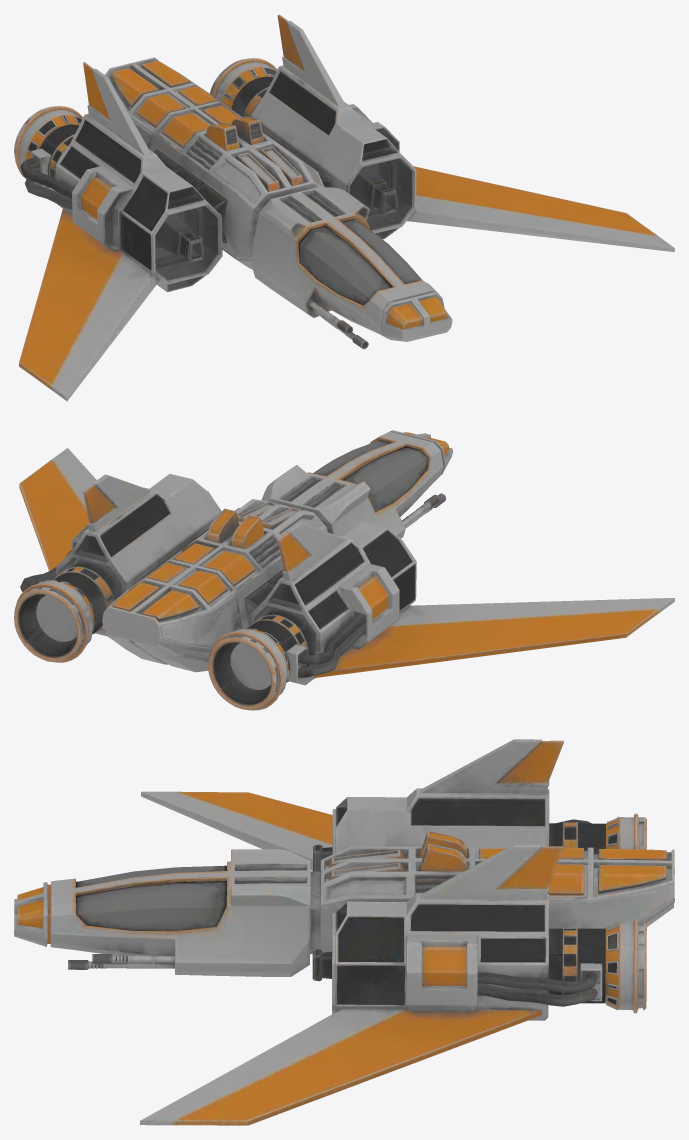
The model's file is spaceship-opt.glb.
3 views of the same model, one above another, from view 1: azimuth 30°, elevation 25°; view 2: azimuth 150°, elevation 25°; view 3: azimuth 270°, elevation 25° (orthographic). The views are drawn at different scales.
Parts seen in each view (by area): view 1: Starship_Material.003_0; view 2: Starship_Material.003_0; view 3: Starship_Material.003_0.
Part boxes in pixels (x1,y1,x2,y2): Starship_Material.003_0: (14,14,674,401); Starship_Material.003_0: (14,430,674,710); Starship_Material.003_0: (14,739,674,1125).
Size of the model in its own units: 25.92 by 6.51 by 21.9.
1 material, 1 textured.
